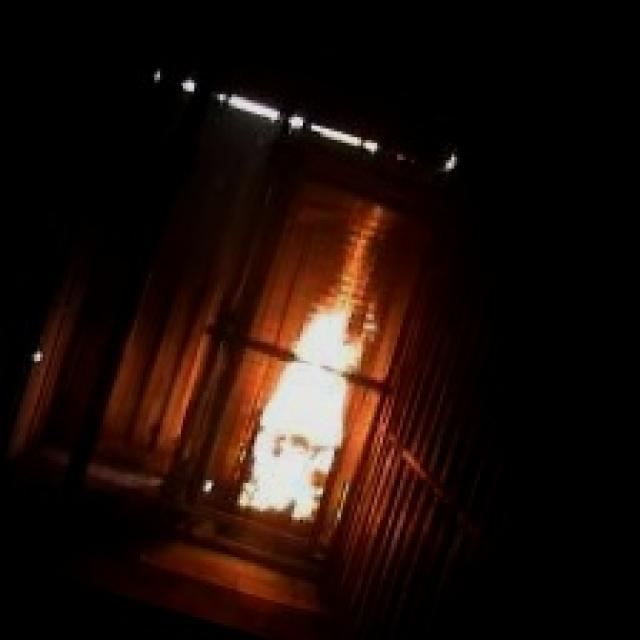fire: (232, 271, 392, 540)
